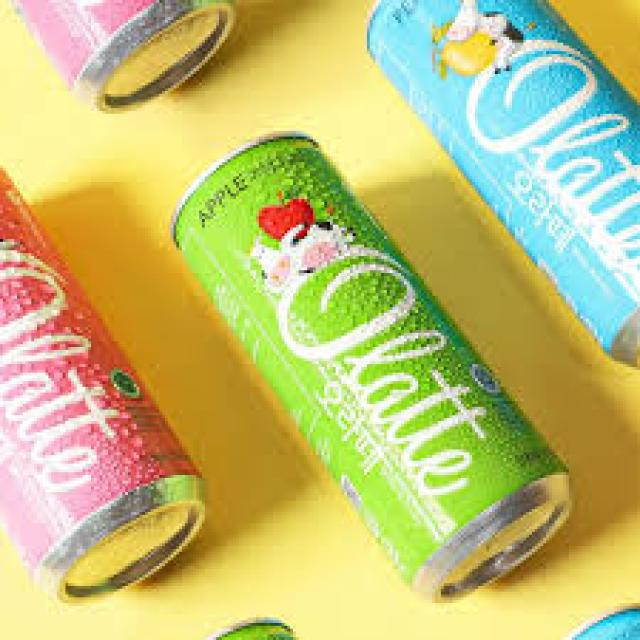Cans: (165, 119, 577, 606)
